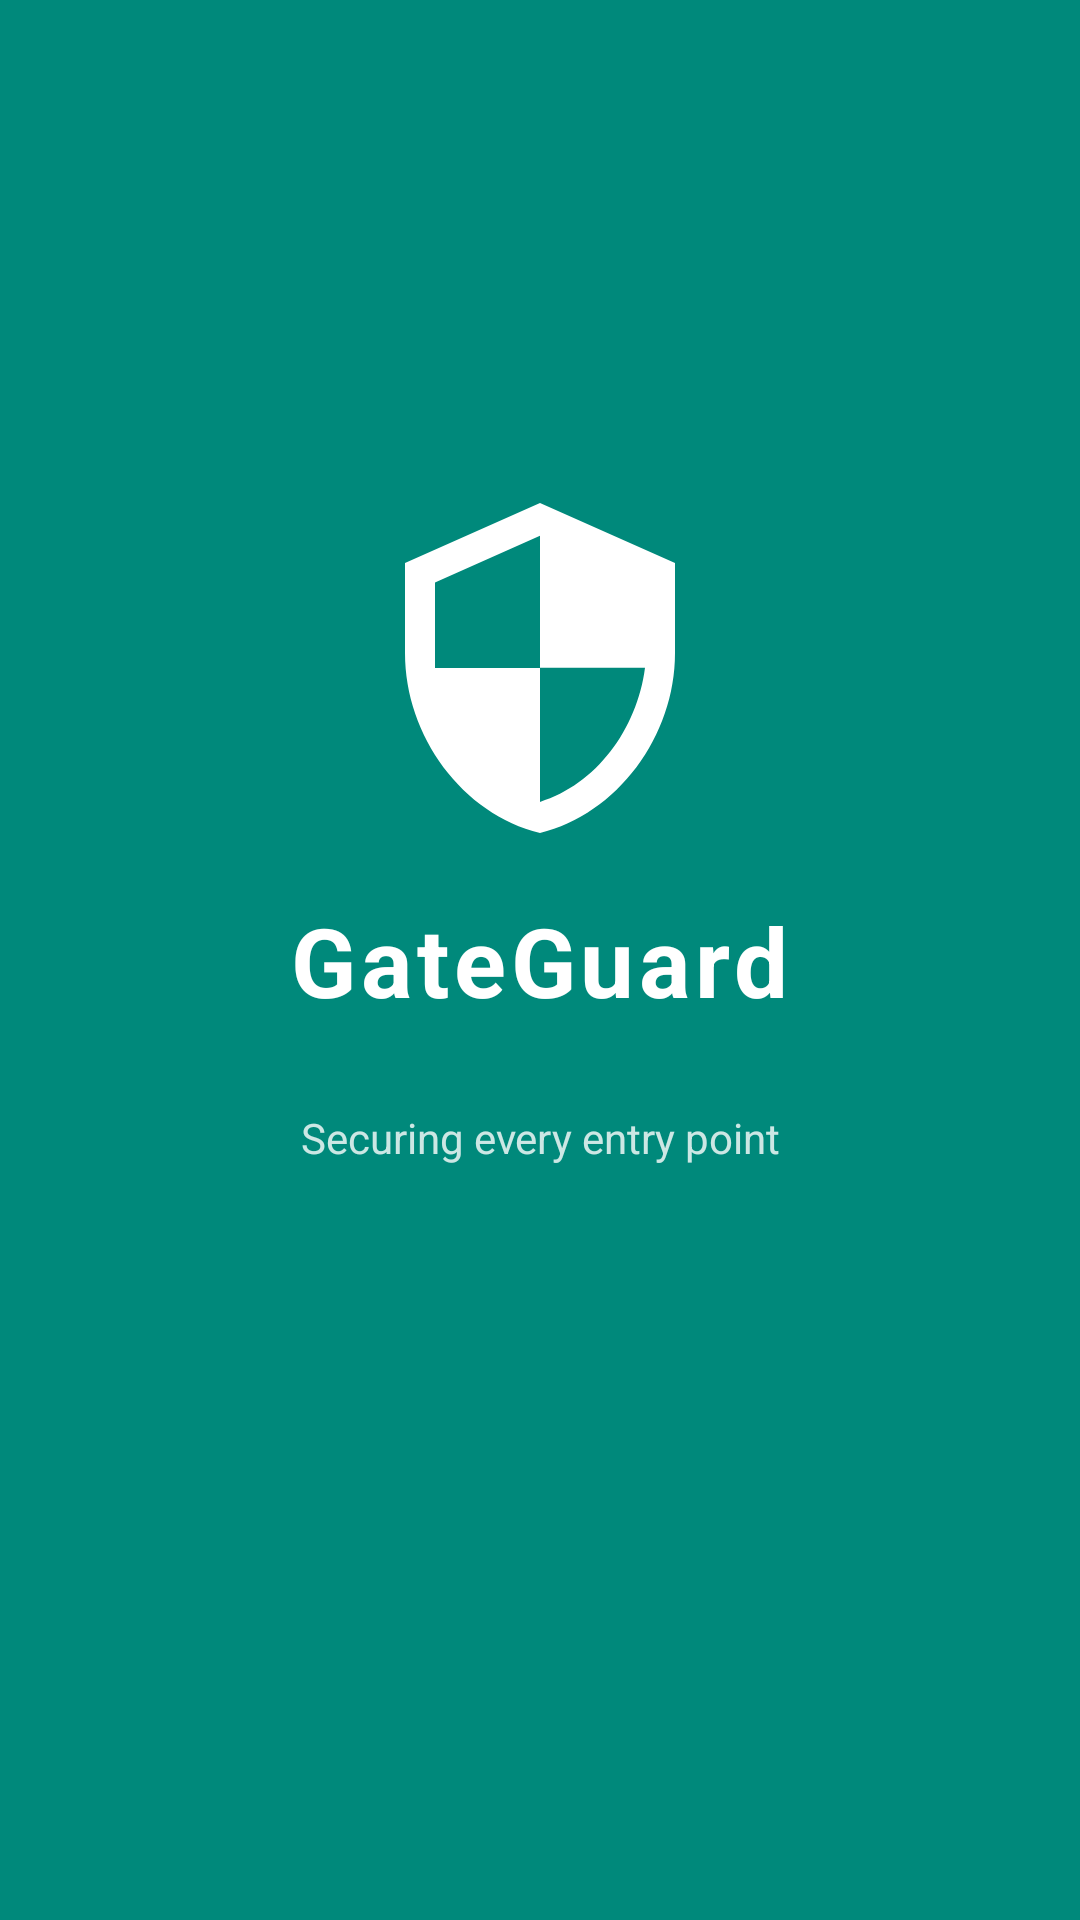

Screen size 1080w x 1920h. Icon name, then its center in pixels as (x=x, y=y):
shield: (x=540, y=668)
